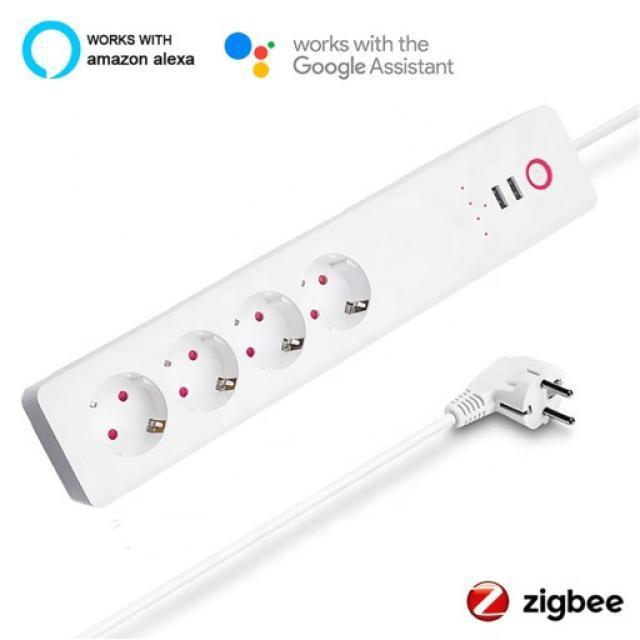typeb: (36, 104, 640, 526)
